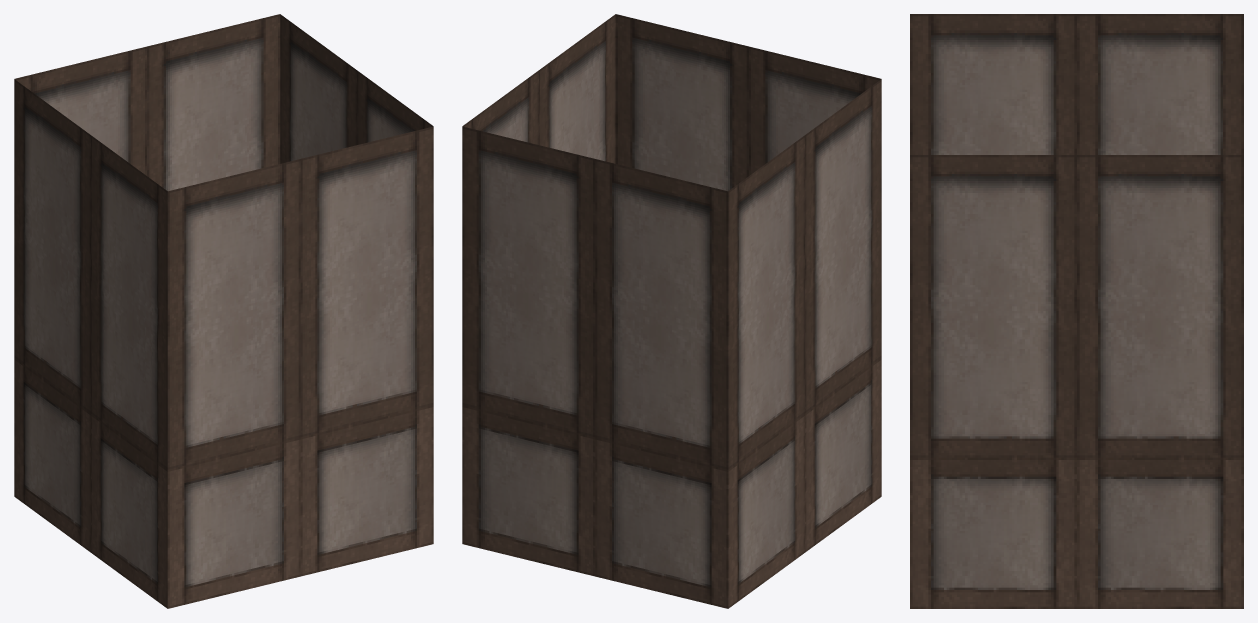
File: plaster_wall_half.glb
The picture shows the model from 3 angles, left to right: view 1: azimuth 30°, elevation 25°; view 2: azimuth 150°, elevation 25°; view 3: azimuth 270°, elevation 25°; orthographic projection. The views are drawn at different scales.
Parts seen in each view (by area): view 1: plaster_wall_half; view 2: plaster_wall_half; view 3: plaster_wall_half.
Part boxes in pixels (bbox=[...]): plaster_wall_half: bbox=[14, 14, 433, 608]; plaster_wall_half: bbox=[462, 14, 881, 608]; plaster_wall_half: bbox=[910, 14, 1243, 608].
Bounding box in the file's own units: 2 × 3 × 2.
Materials: 1 (1 with a texture image).
